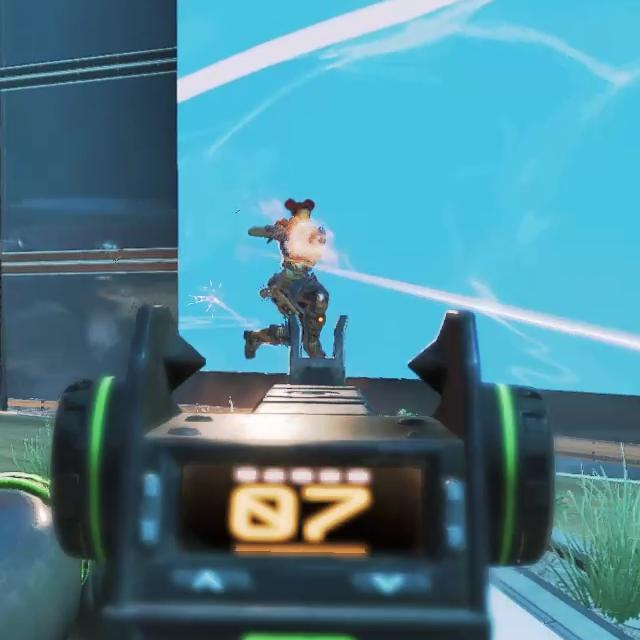avatar: (242, 198, 332, 356)
object: (281, 215, 329, 263)
